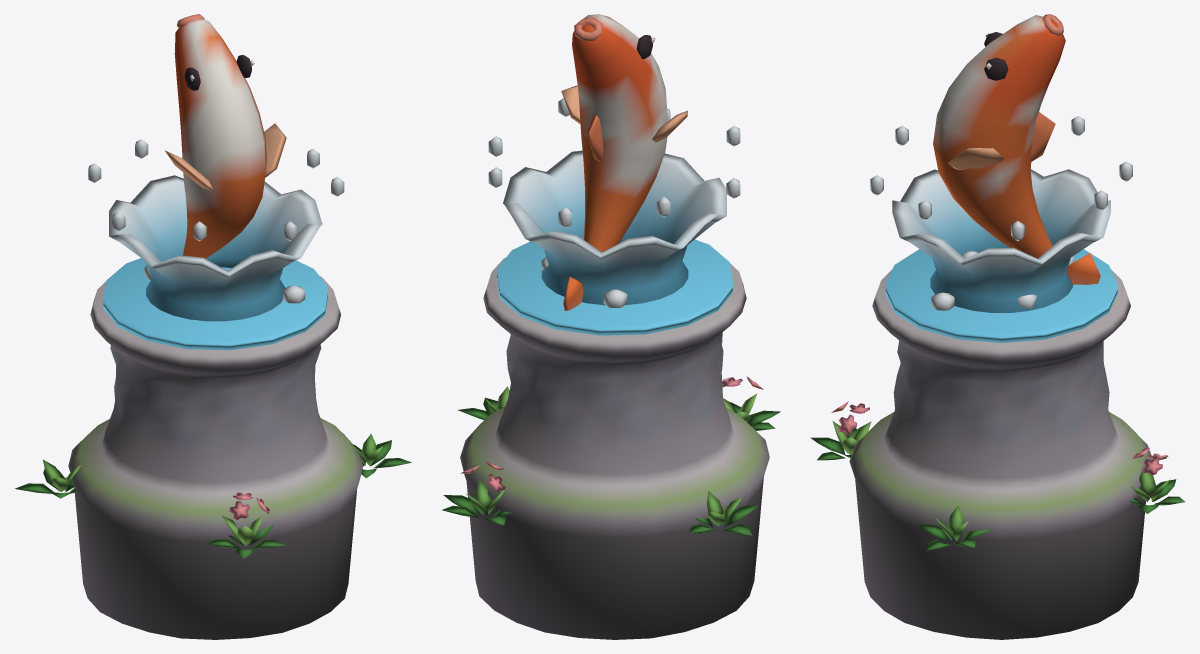
Rendered from koiStatue.glb.
3 views of the same model, side by side, from view 1: azimuth 30°, elevation 25°; view 2: azimuth 150°, elevation 25°; view 3: azimuth 270°, elevation 25° (orthographic). The views are drawn at different scales.
Parts seen in each view (by area): view 1: koiStatue; view 2: koiStatue; view 3: koiStatue.
Part boxes in pixels (box(x1,y1,x2,y2)): koiStatue: box(15, 14, 411, 639); koiStatue: box(442, 14, 780, 639); koiStatue: box(810, 14, 1184, 639).
Size of the model in its own units: 1.02 by 1.64 by 0.9866.
